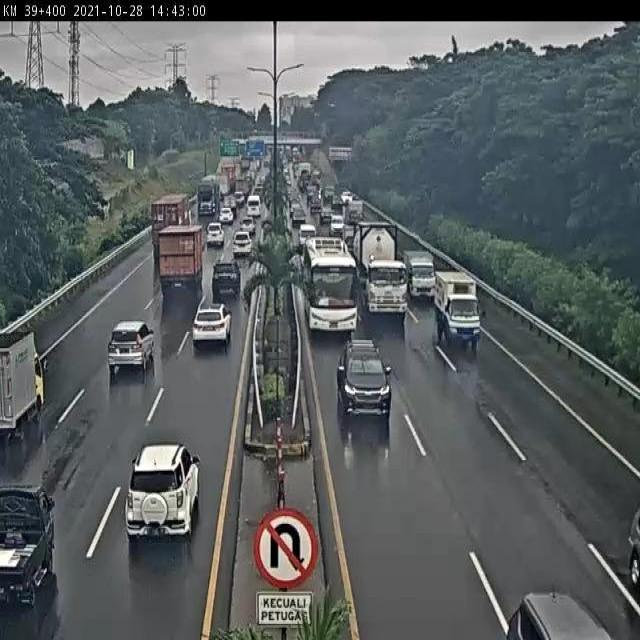big truck: (163, 223, 209, 289), (152, 194, 196, 262)
bus-l-: (306, 236, 358, 336)
car: (123, 441, 201, 540), (337, 338, 392, 426), (106, 321, 157, 376), (191, 302, 231, 349), (214, 254, 243, 290), (206, 220, 224, 248), (232, 229, 253, 252)
small truck: (0, 489, 56, 604), (0, 328, 45, 444)
truck-s-: (435, 271, 482, 348), (403, 251, 436, 304)
truck-xl-: (353, 220, 413, 321)
